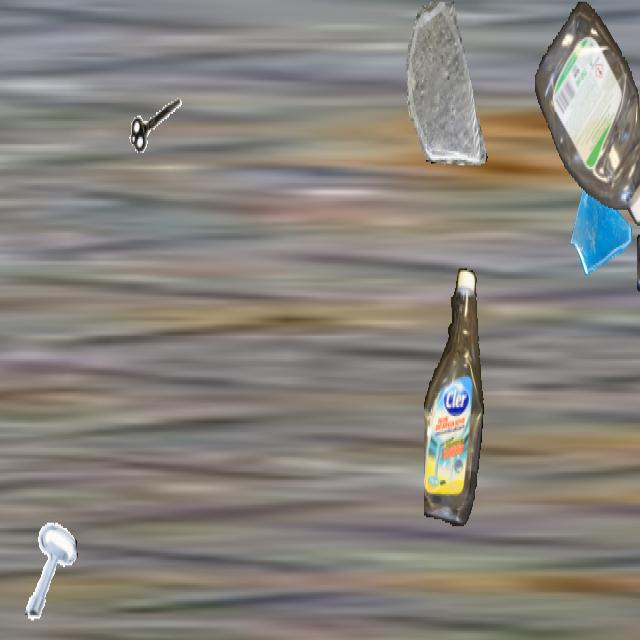glass: (401, 2, 493, 165), (569, 167, 635, 285)
metal: (18, 516, 78, 622), (127, 74, 185, 178)
plastic: (535, 2, 640, 233), (424, 268, 484, 524), (637, 89, 640, 338)
